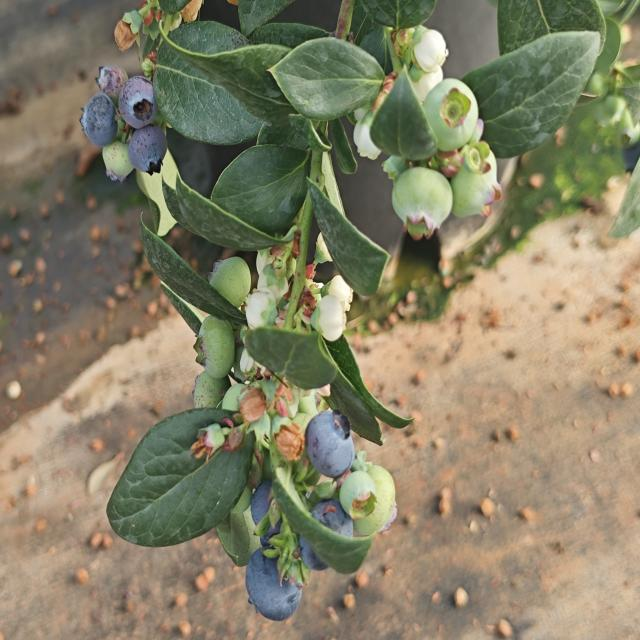ripe: (297, 498, 361, 574), (244, 472, 299, 557), (242, 550, 304, 624), (302, 408, 362, 481), (75, 98, 121, 150), (125, 122, 168, 177), (120, 73, 162, 127)
